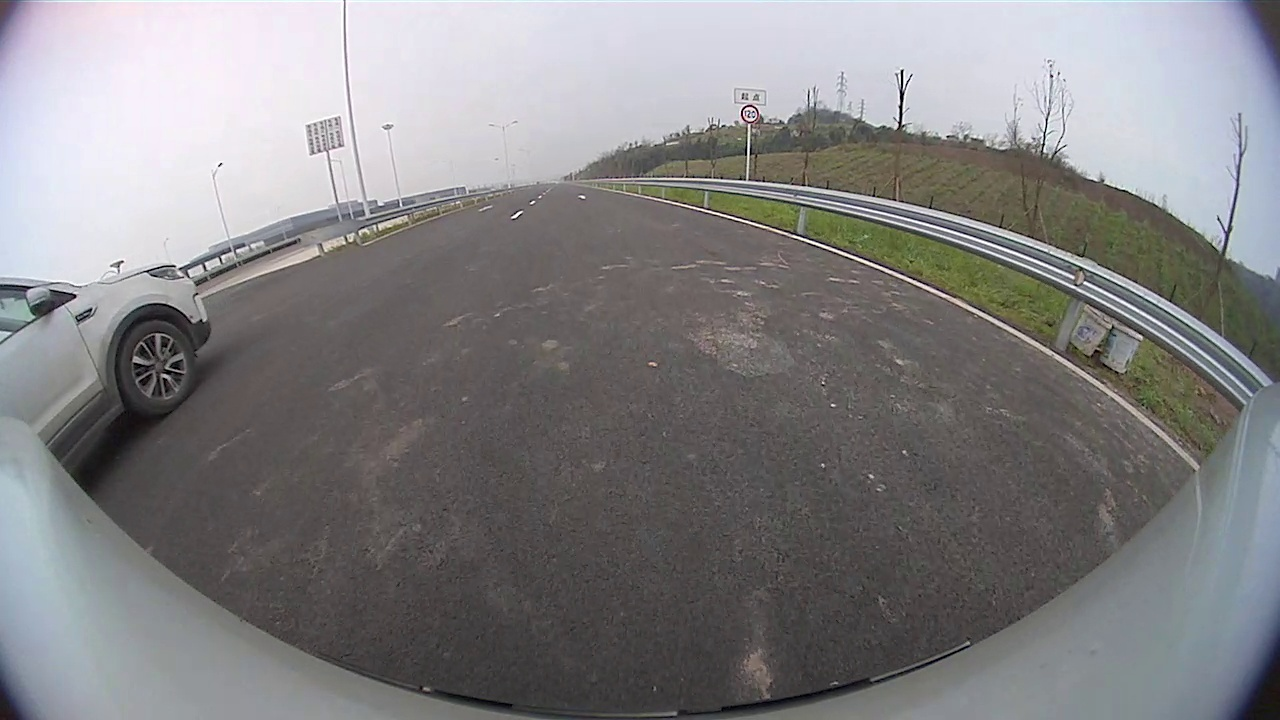car: (1, 263, 213, 498)
front: (116, 319, 198, 417)
